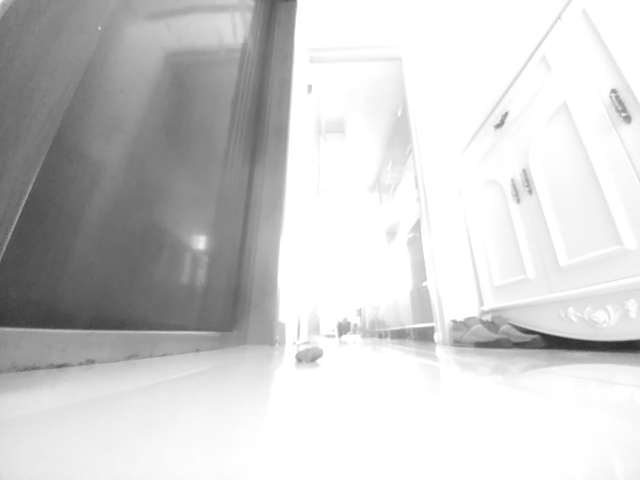pet feces: (294, 344, 325, 364)
shoe: (446, 314, 511, 349), (493, 314, 545, 350)
